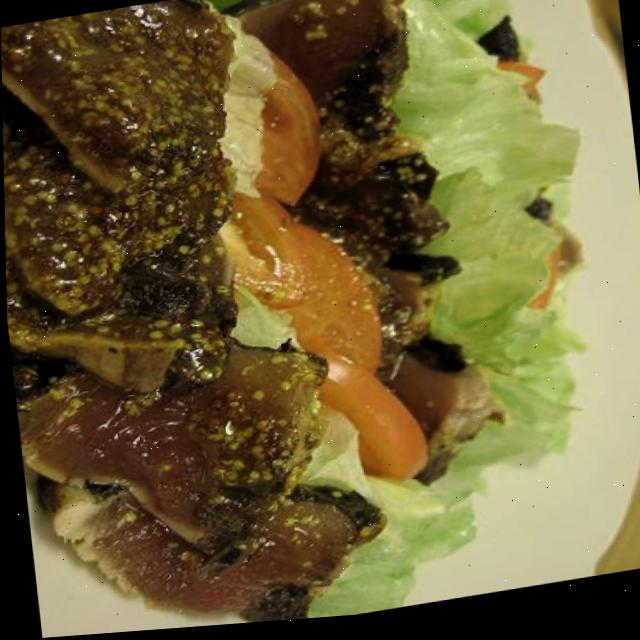熟制海鲜: (0, 0, 550, 640)
